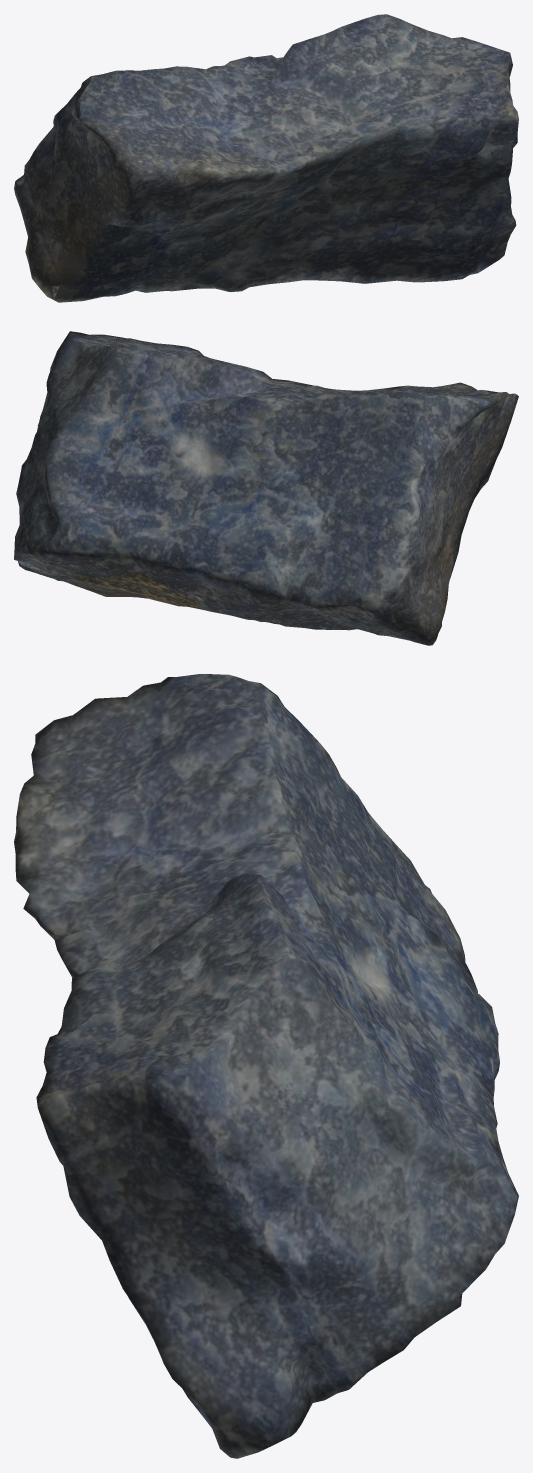
File: scan_rock_boulder.glb
The picture shows the model from 3 angles, top to bottom: view 1: azimuth 30°, elevation 25°; view 2: azimuth 150°, elevation 25°; view 3: azimuth 270°, elevation 25°; orthographic projection. The views are drawn at different scales.
Parts seen in each view (by area): view 1: scan_rock_boulder; view 2: scan_rock_boulder; view 3: scan_rock_boulder.
Part boxes in pixels (box(x1,y1,x2,y2)): scan_rock_boulder: box(14, 14, 518, 302); scan_rock_boulder: box(14, 331, 518, 645); scan_rock_boulder: box(14, 674, 518, 1458).
Bounding box in the file's own units: 2.2 × 1.33 × 1.31.
1 material, 1 textured.
